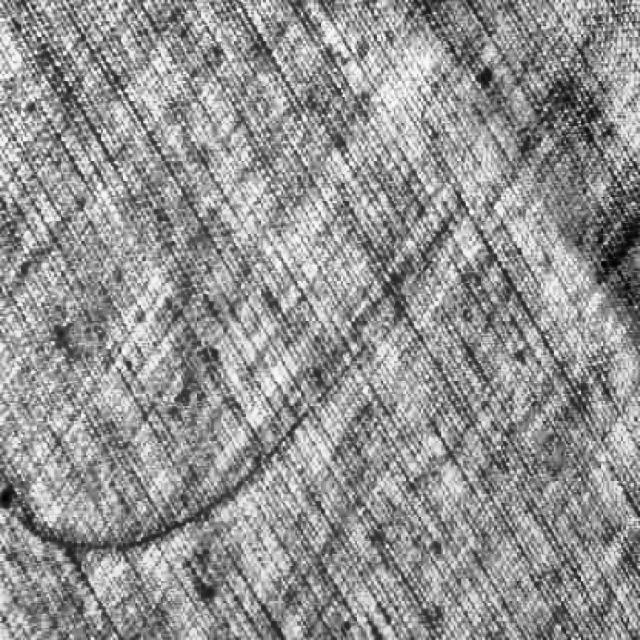objects: (0, 401, 315, 560)
